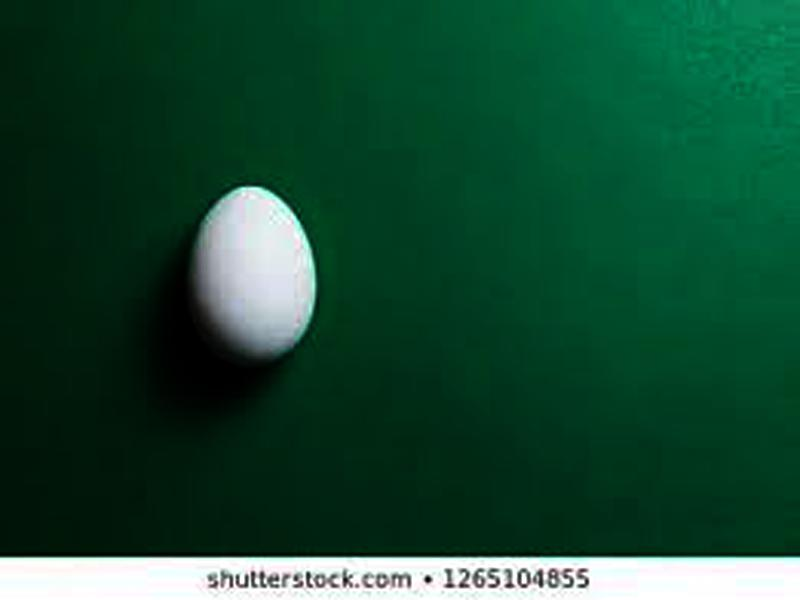Eggs: (190, 187, 322, 367)
